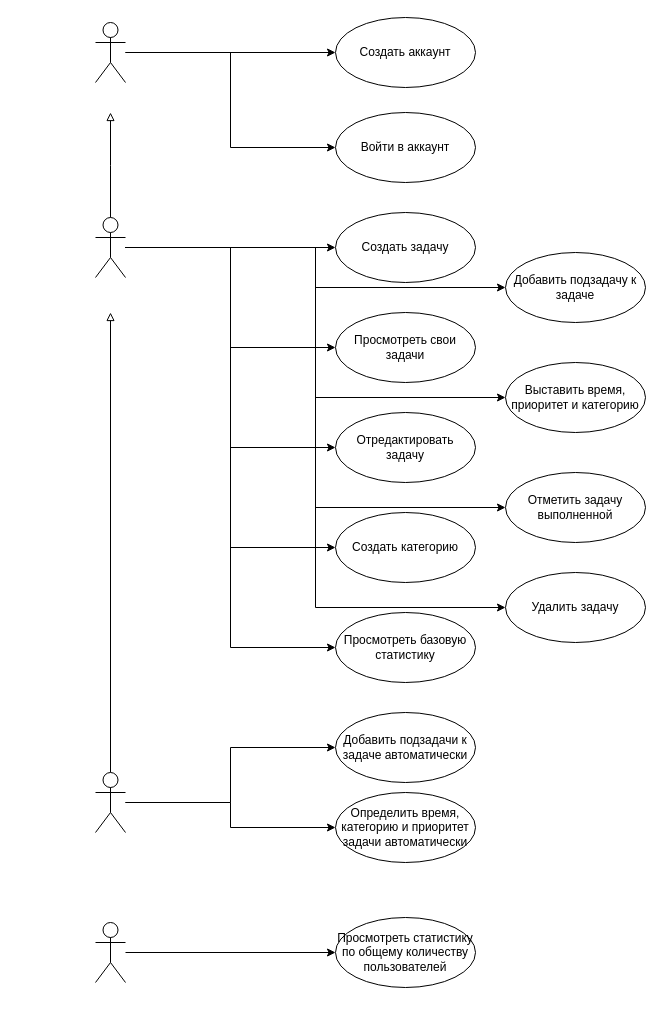
Some shapes in this 663 by 1021 pixel diagram are drawn without their labels. The shapes that lost their labels are listed below. From the top down, each one's centre as x and y in pixels, then its label:
[110,52]: Неавторизованный пользователь
[110,247]: Авторизованный пользователь
[110,802]: Премиум пользователь
[110,952]: Администратор
